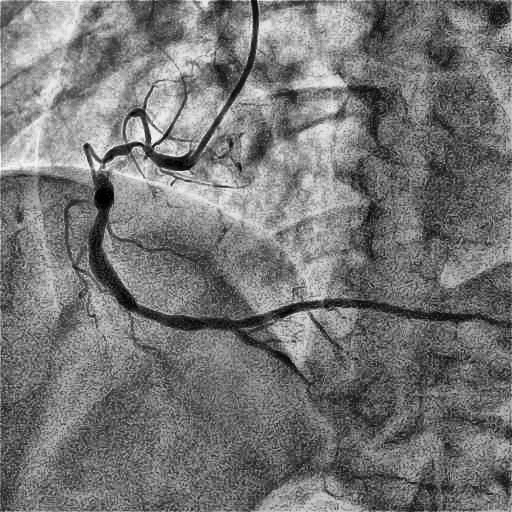pborca: (235, 298, 500, 327)
pda: (232, 329, 309, 385)
rca: (89, 142, 242, 330)
